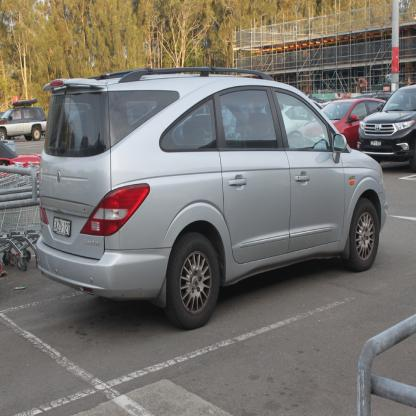Car: (28, 74, 392, 338), (357, 84, 416, 169), (303, 98, 388, 150), (2, 140, 45, 192), (1, 103, 50, 142), (280, 106, 318, 140)
